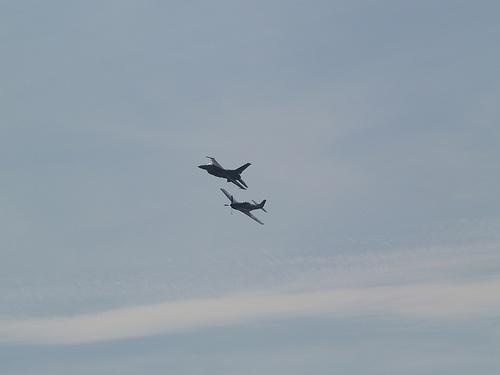aeroplane: (199, 156, 253, 192), (220, 188, 268, 227)
